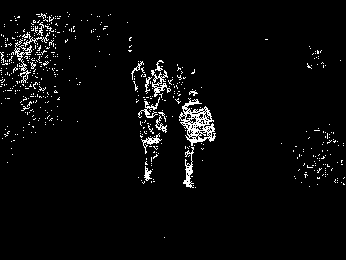person: (182, 92, 235, 198), (130, 92, 172, 182)
